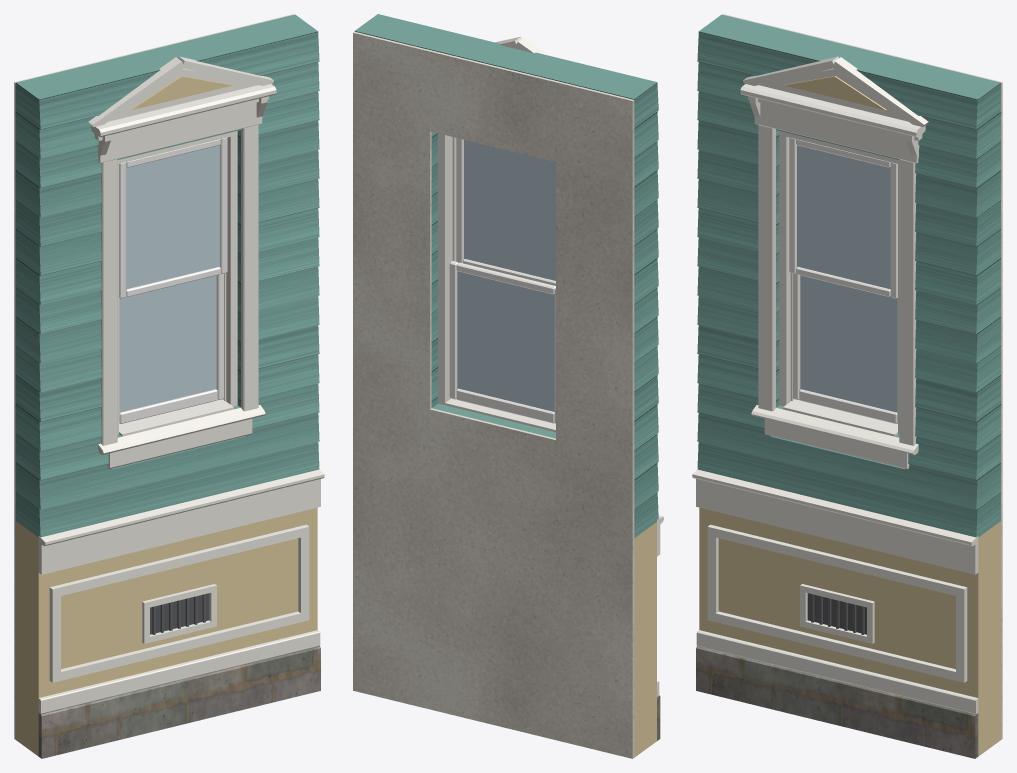
The model's file is f_g_win_c.glb.
The picture shows the model from 3 angles, left to right: view 1: azimuth 30°, elevation 25°; view 2: azimuth 150°, elevation 25°; view 3: azimuth 330°, elevation 25°; orthographic projection.
Visible parts, largest first — view 1: f_g_win_c_siding_c, f_g_win_c_trim, f_g_win_c_acc_c, f_g_win_c_glass, f_g_win_c_plinth, f_g_win_c_sash, f_g_win_c_frame, f_g_win_c_plaster, f_g_win_c_dark, f_g_win_c_iron; view 2: f_g_win_c_plaster, f_g_win_c_glass, f_g_win_c_siding_c, f_g_win_c_sash, f_g_win_c_acc_c, f_g_win_c_frame, f_g_win_c_trim; view 3: f_g_win_c_siding_c, f_g_win_c_trim, f_g_win_c_acc_c, f_g_win_c_glass, f_g_win_c_plinth, f_g_win_c_sash, f_g_win_c_frame, f_g_win_c_plaster, f_g_win_c_dark, f_g_win_c_iron.
Boxes of the visible parts, x1,y1,x2,y2 form: f_g_win_c_siding_c: (16, 14, 319, 537); f_g_win_c_trim: (38, 56, 324, 713); f_g_win_c_acc_c: (16, 76, 317, 756); f_g_win_c_glass: (119, 145, 219, 412); f_g_win_c_plinth: (38, 646, 320, 758); f_g_win_c_sash: (119, 137, 227, 423); f_g_win_c_frame: (117, 131, 237, 434); f_g_win_c_plaster: (14, 14, 293, 739); f_g_win_c_dark: (150, 593, 209, 634); f_g_win_c_iron: (152, 594, 205, 634); f_g_win_c_plaster: (353, 31, 634, 758); f_g_win_c_glass: (457, 139, 555, 411); f_g_win_c_siding_c: (354, 14, 658, 537); f_g_win_c_sash: (449, 138, 555, 423); f_g_win_c_acc_c: (634, 522, 656, 757); f_g_win_c_frame: (438, 133, 456, 404); f_g_win_c_trim: (445, 36, 663, 696); f_g_win_c_siding_c: (697, 14, 1000, 537); f_g_win_c_trim: (692, 56, 978, 713); f_g_win_c_acc_c: (699, 76, 1000, 756); f_g_win_c_glass: (797, 145, 897, 412); f_g_win_c_plinth: (696, 646, 978, 758); f_g_win_c_sash: (789, 137, 897, 423); f_g_win_c_frame: (779, 131, 899, 434); f_g_win_c_plaster: (723, 14, 1002, 739); f_g_win_c_dark: (807, 593, 866, 634); f_g_win_c_iron: (811, 594, 864, 634).
Size of the model in its own units: 2 by 4.55 by 0.43.
Materials: 10 (3 with a texture image).
